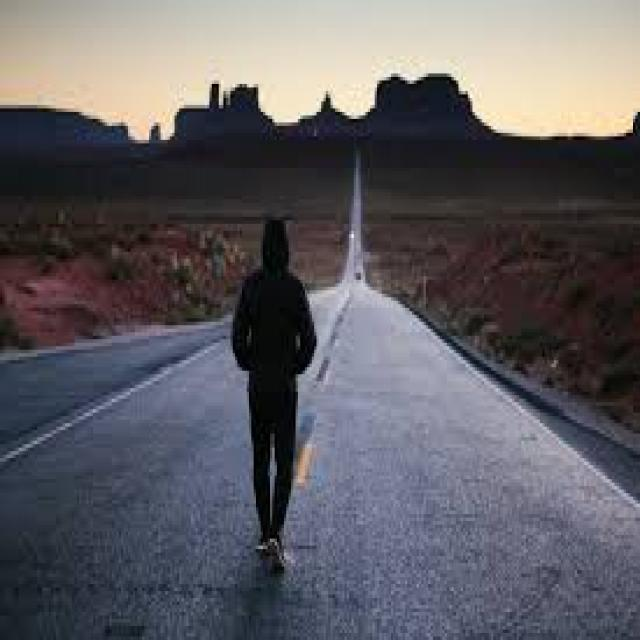nonfall: (206, 213, 339, 588)
